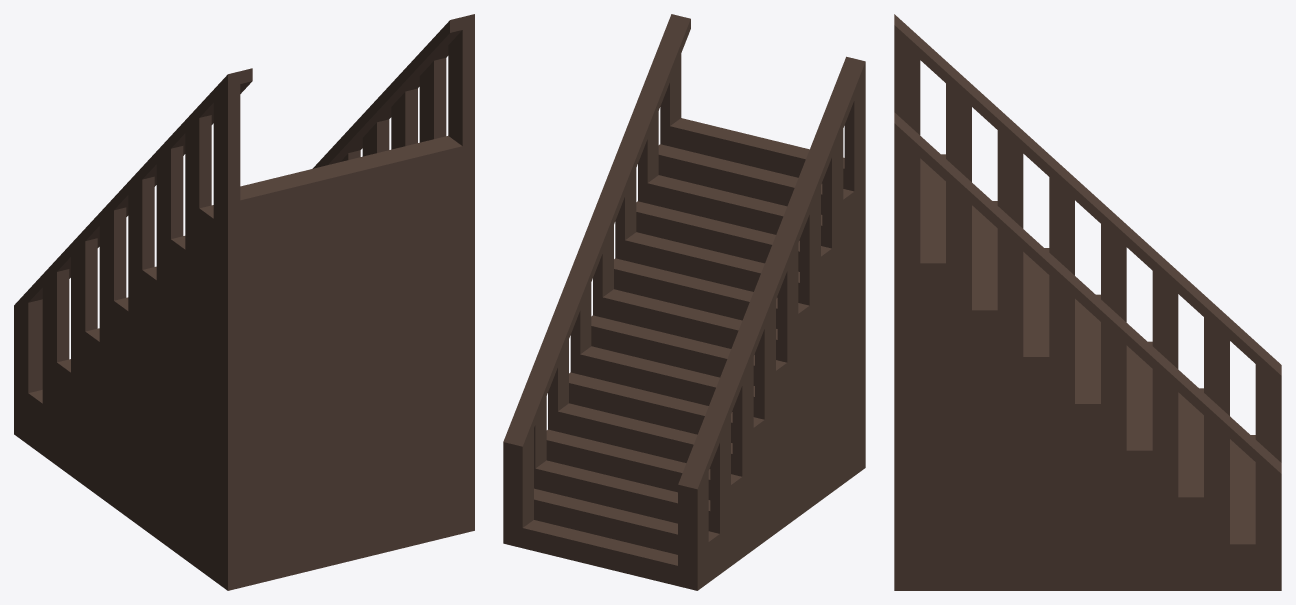
Rendered from fantasy_staircase_1.fbx.
The picture shows the model from 3 angles, left to right: view 1: azimuth 30°, elevation 25°; view 2: azimuth 150°, elevation 25°; view 3: azimuth 270°, elevation 25°; orthographic projection. The views are drawn at different scales.
Visible parts, largest first — view 1: Cube; view 2: Cube; view 3: Cube.
Boxes of the visible parts, x1,y1,x2,y2 form: Cube: (14, 14, 474, 590); Cube: (503, 14, 865, 590); Cube: (894, 14, 1281, 590).
Bounding box in the file's own units: 200 × 400 × 300.
